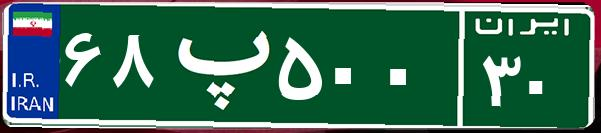0: (385, 28, 445, 110), (330, 28, 385, 110), (525, 38, 570, 115)
3: (475, 38, 525, 113)
5: (273, 28, 330, 110)
6: (57, 26, 110, 107)
8: (110, 28, 158, 105)
پ: (158, 15, 273, 115)
